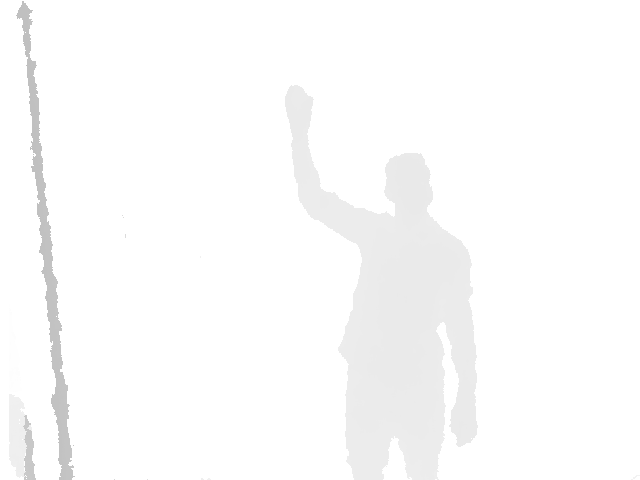hand: (284, 85, 314, 141)
hand_down: (448, 395, 479, 448)
head: (382, 152, 434, 215)
person: (283, 85, 480, 480)
